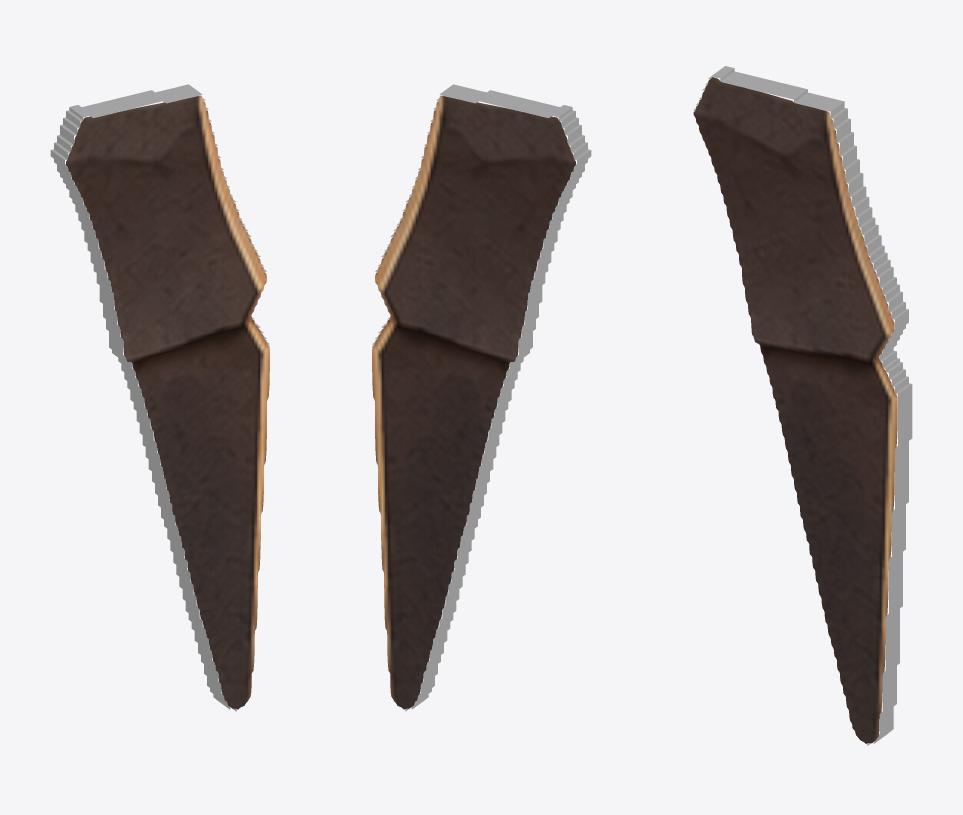
Rendered from Variant03Lower.glb.
The picture shows the model from 3 angles, left to right: view 1: azimuth 30°, elevation 25°; view 2: azimuth 150°, elevation 25°; view 3: azimuth 330°, elevation 25°; orthographic projection.
Visible parts, largest first — view 1: PaperVolume; view 2: PaperVolume; view 3: PaperVolume.
Part boxes in pixels (x1,y1,x2,y2): PaperVolume: (50,84,269,711); PaperVolume: (372,84,591,711); PaperVolume: (693,66,912,745).
Bounding box in the file's own units: 0.91 × 2.21 × 0.08.
Materials: 3 (2 with a texture image).
